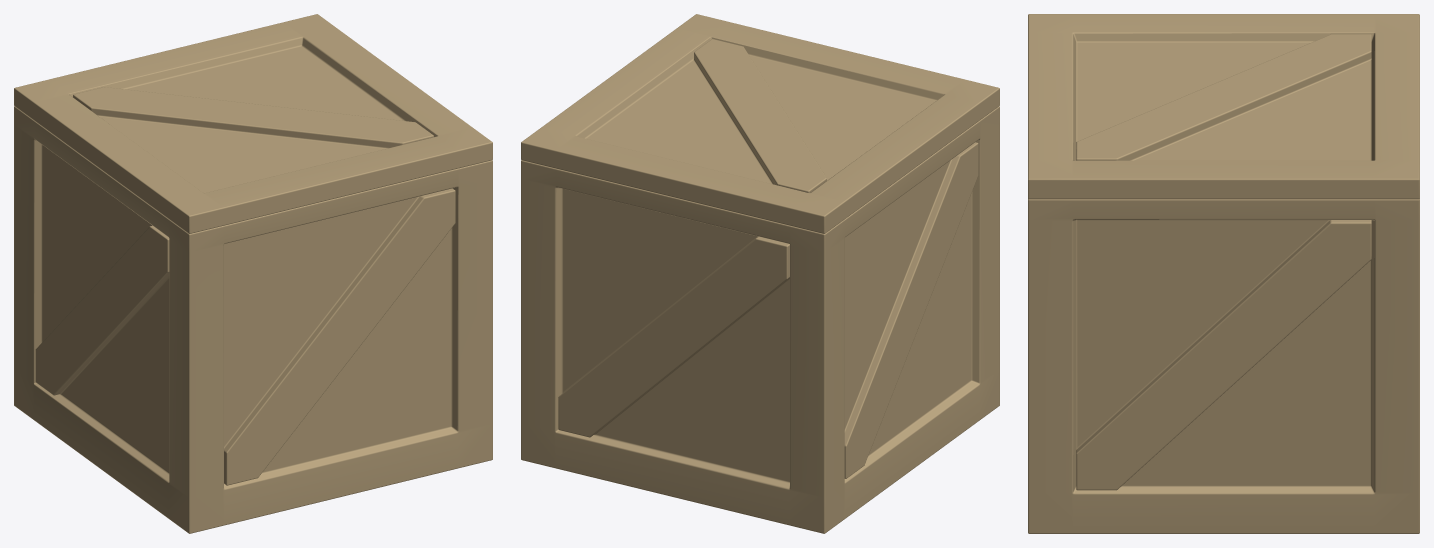
The model's file is Crate2.fbx.
The picture shows the model from 3 angles, left to right: view 1: azimuth 30°, elevation 25°; view 2: azimuth 150°, elevation 25°; view 3: azimuth 270°, elevation 25°; orthographic projection. The views are drawn at different scales.
Visible parts, largest first — view 1: Bottom.001, Cover.001; view 2: Bottom.001, Cover.001; view 3: Bottom.001, Cover.001.
Part boxes in pixels (<box>): Bottom.001: <box>14,106,492,533</box>; Cover.001: <box>14,14,492,233</box>; Bottom.001: <box>521,106,999,533</box>; Cover.001: <box>521,14,999,233</box>; Bottom.001: <box>1028,198,1419,533</box>; Cover.001: <box>1028,14,1419,199</box>.
Size of the model in its own units: 1156 by 1156 by 1156.
